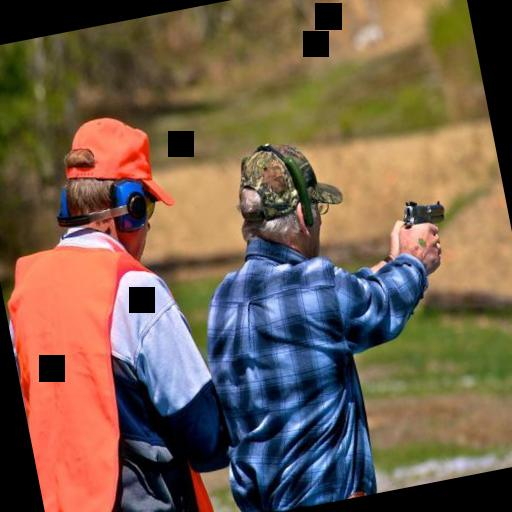Handgun: (396, 188, 452, 250)
